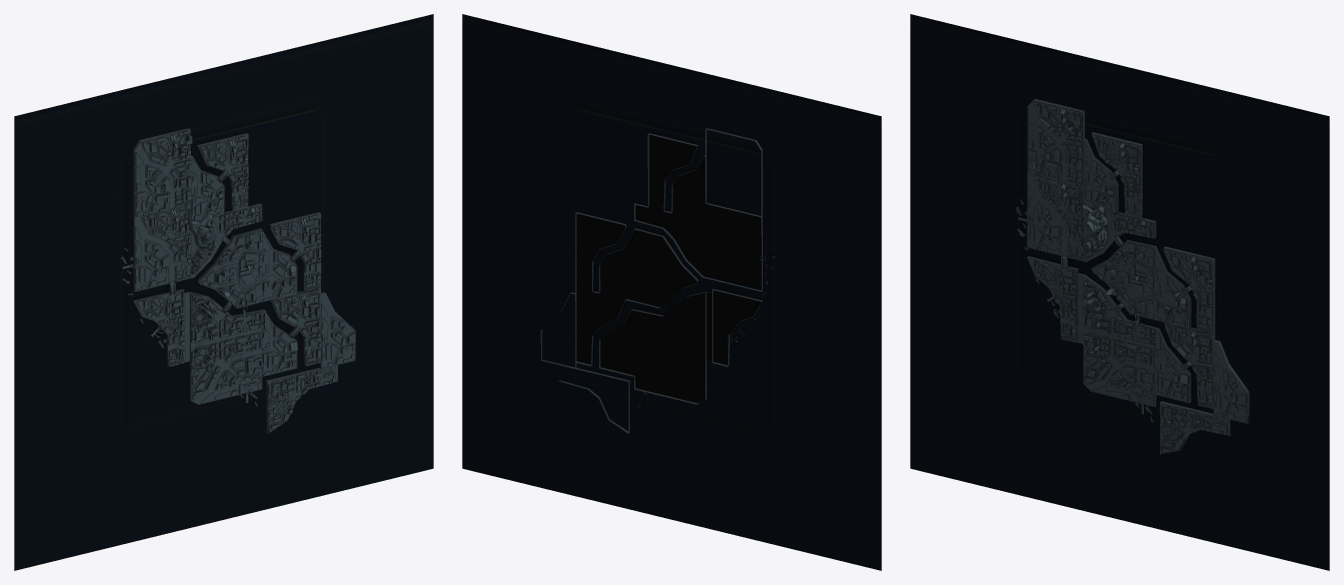
The model's file is ZombiesII_Map_3ae7c153__ZombiesII_Map_2302f23d_c1f257.obj.
The picture shows the model from 3 angles, left to right: view 1: azimuth 30°, elevation 25°; view 2: azimuth 150°, elevation 25°; view 3: azimuth 330°, elevation 25°; orthographic projection.
Size of the model in its own units: 4035 by 4177 by 178.
Materials: 1 (1 with a texture image).
